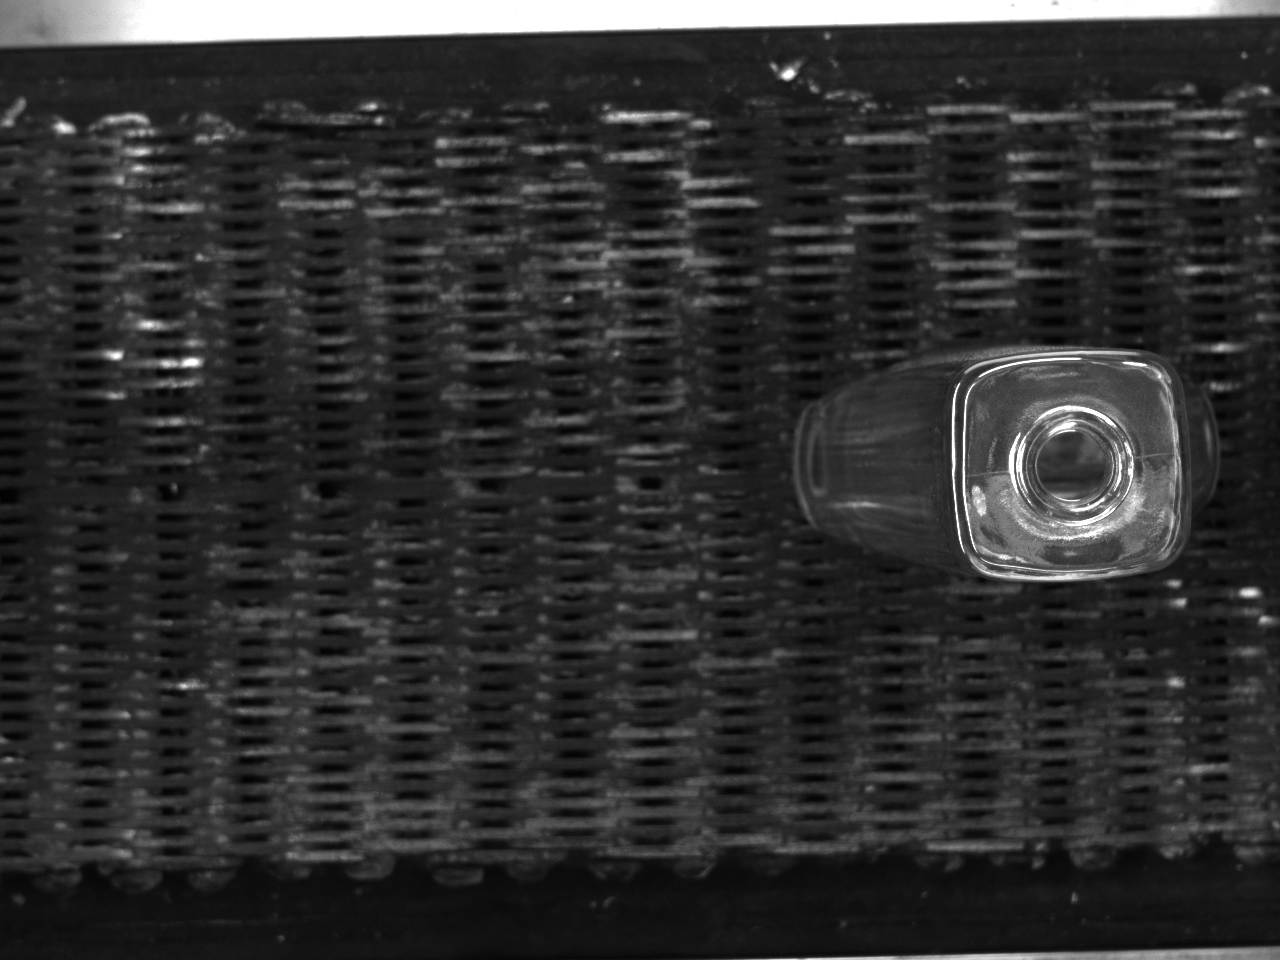bottleneck: (1015, 405, 1134, 524)
